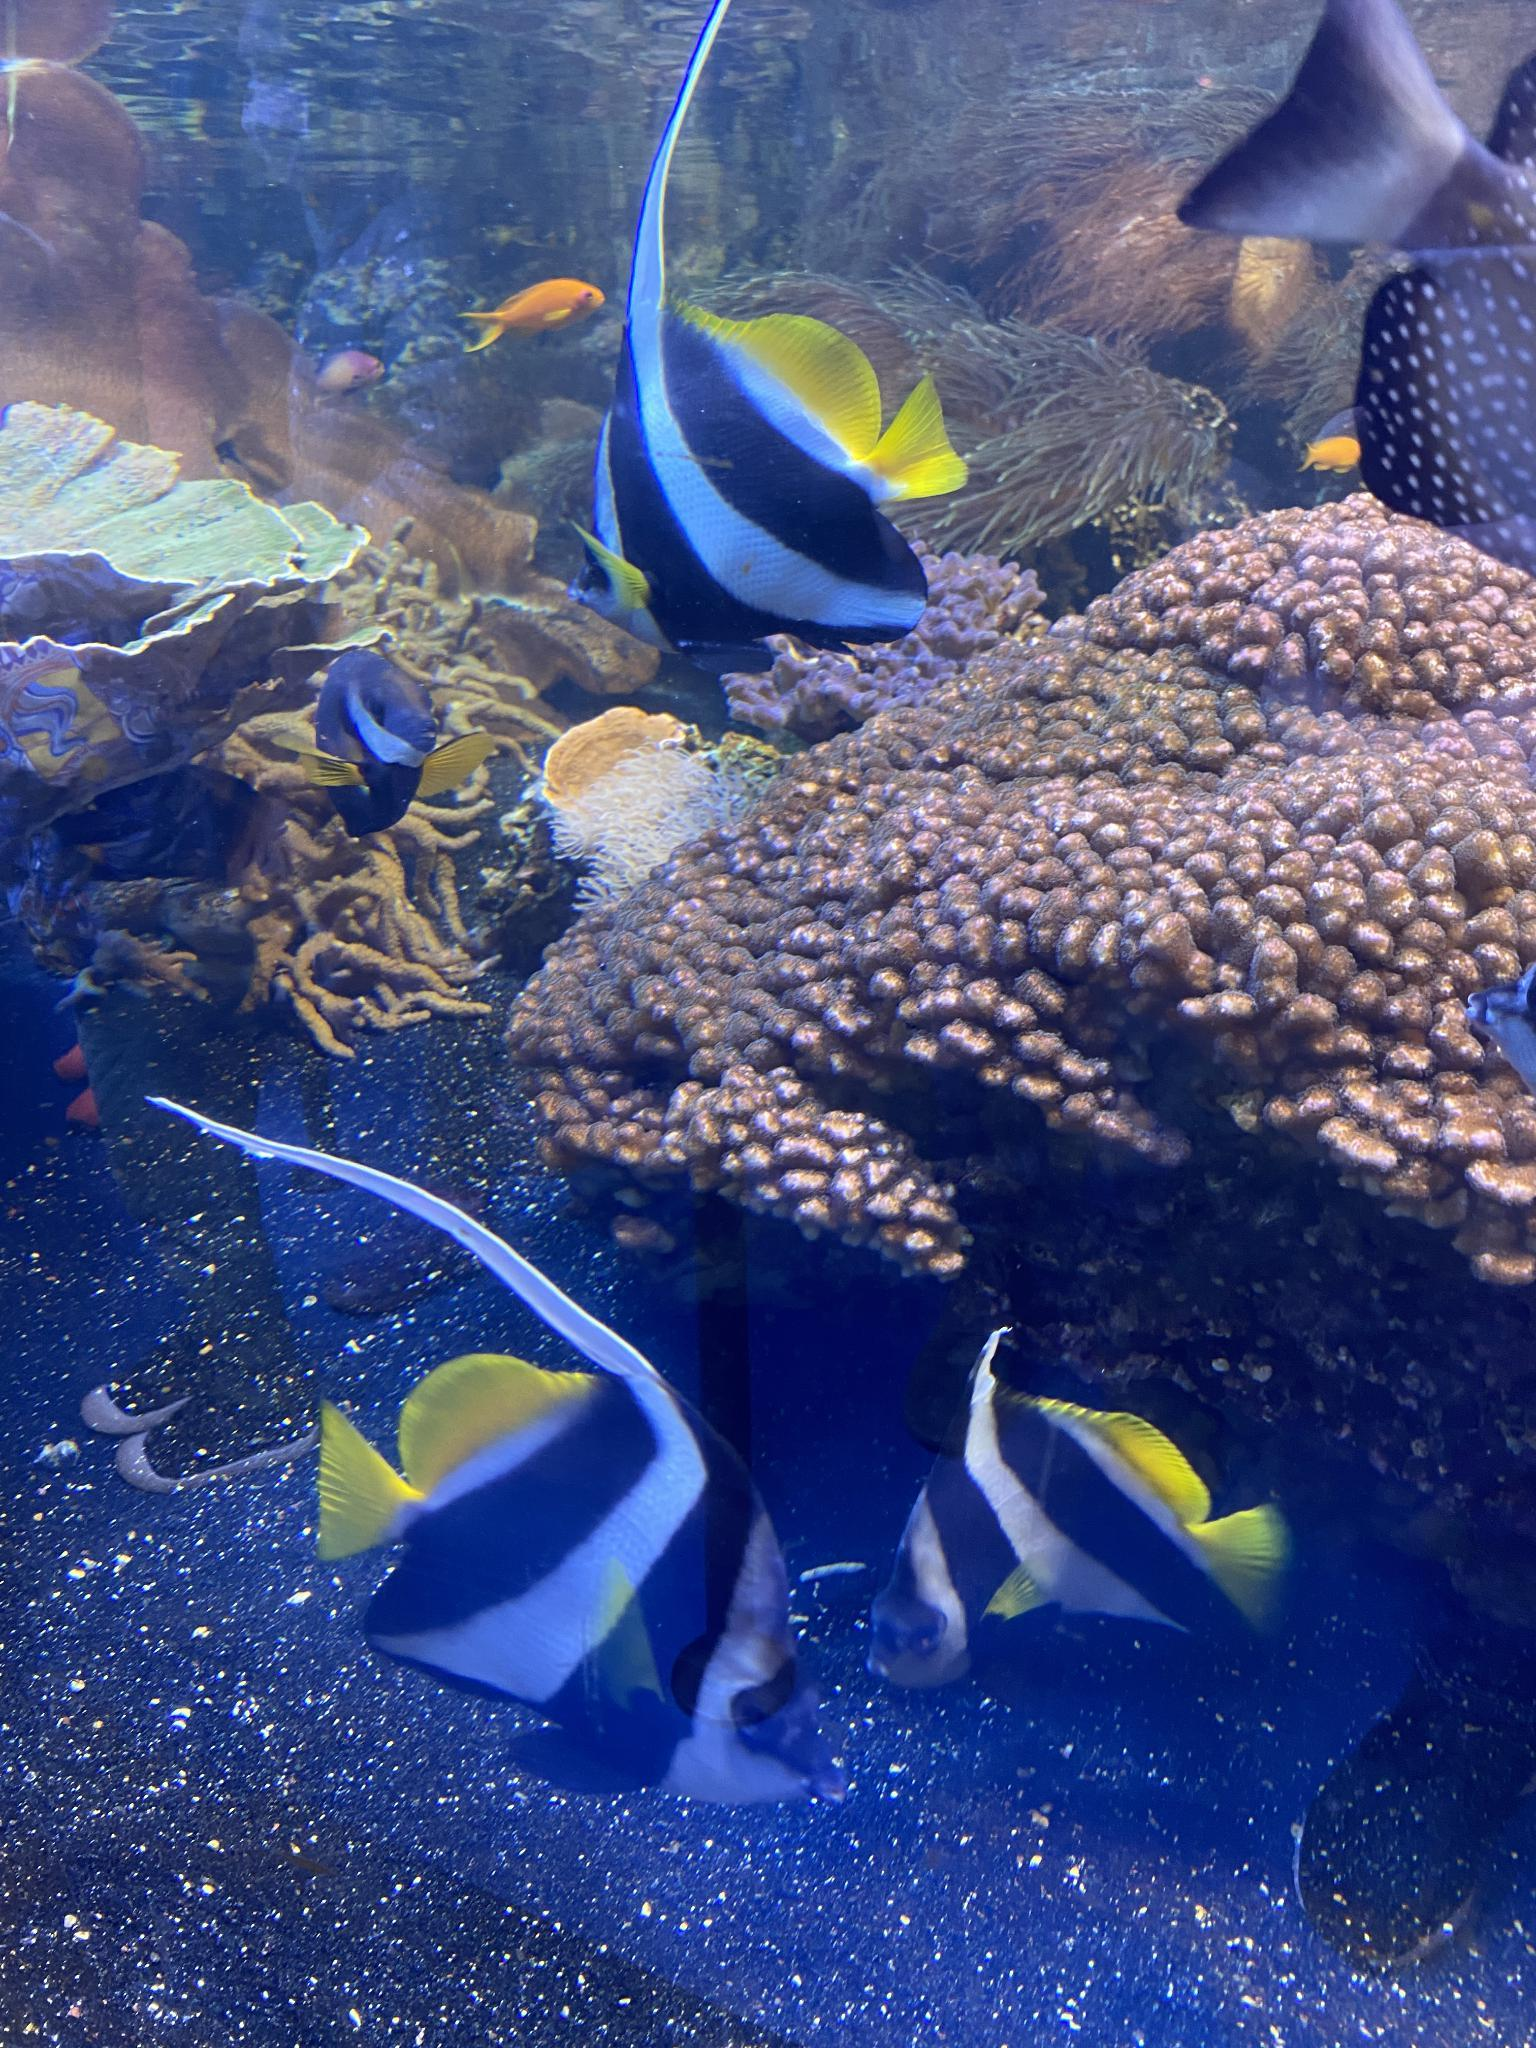fish: (319, 1351, 845, 1811), (1178, 0, 1534, 577), (566, 302, 968, 676), (871, 1392, 1288, 1690), (281, 648, 492, 835), (455, 281, 608, 355), (315, 352, 387, 398), (1302, 434, 1359, 472)
